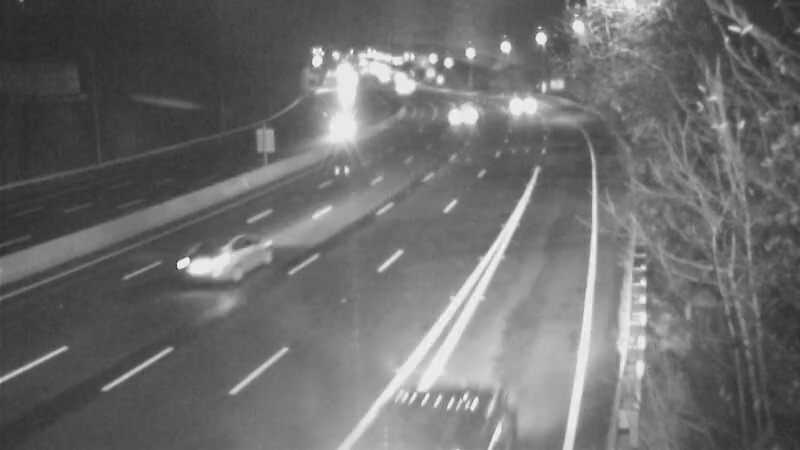vehicle: (179, 222, 259, 302), (488, 80, 538, 130), (433, 87, 483, 137), (316, 101, 366, 151)
